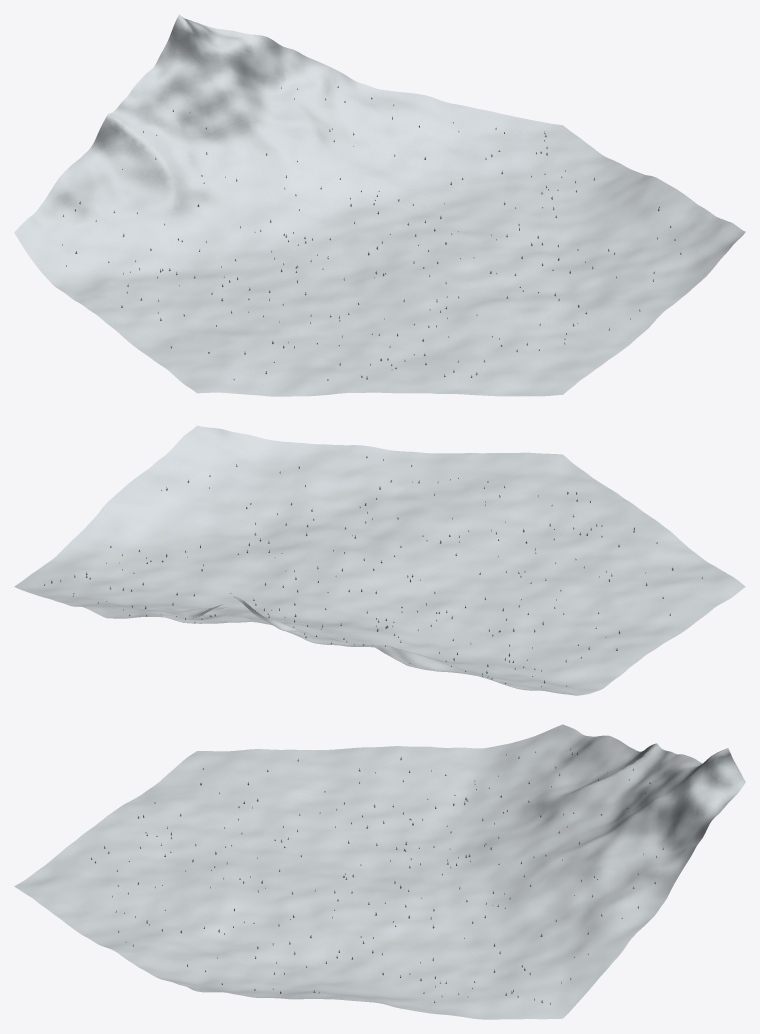
3 renders of one model, top to bottom at view 1: azimuth 30°, elevation 25°; view 2: azimuth 150°, elevation 25°; view 3: azimuth 270°, elevation 25°, orthographic.
Visible parts, largest first — view 1: terrain_v10, snow_pines_nonmetal; view 2: terrain_v10, snow_pines_nonmetal; view 3: terrain_v10, snow_pines_nonmetal.
Part boxes in pixels (<box>): terrain_v10: <box>14,14,745,396</box>; snow_pines_nonmetal: <box>62,85,681,380</box>; terrain_v10: <box>14,425,745,695</box>; snow_pines_nonmetal: <box>44,456,702,686</box>; terrain_v10: <box>14,724,745,1019</box>; snow_pines_nonmetal: <box>91,748,663,1004</box>.
Size of the model in its own units: 4330 by 979 by 5000.
Materials: 2 (1 with a texture image).
